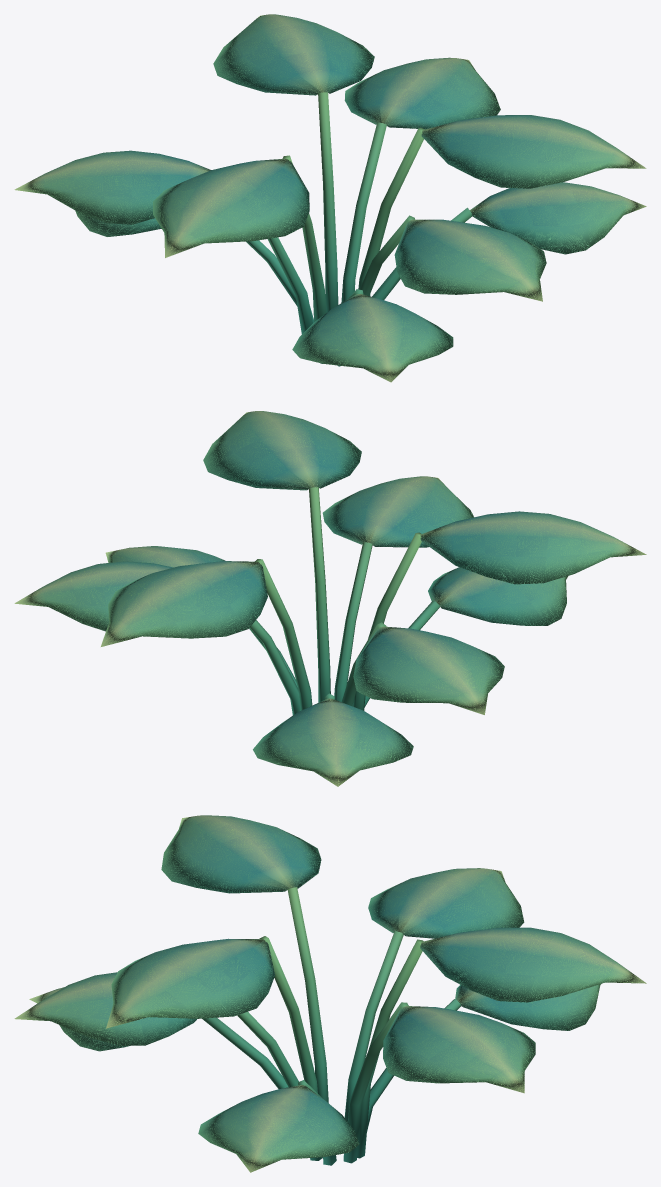
Rendered from verdant_bush_broadleaf.glb.
3 renders of one model, top to bottom at view 1: azimuth 30°, elevation 25°; view 2: azimuth 150°, elevation 25°; view 3: azimuth 270°, elevation 25°, orthographic. The views are drawn at different scales.
Parts seen in each view (by area): view 1: verdant_bush_broadleaf; view 2: verdant_bush_broadleaf; view 3: verdant_bush_broadleaf.
Boxes of the visible parts, x1,y1,x2,y2 form: verdant_bush_broadleaf: (14,14,646,382); verdant_bush_broadleaf: (14,411,646,786); verdant_bush_broadleaf: (14,815,646,1172).
Bounding box in the file's own units: 2.46 × 1.15 × 2.58.
